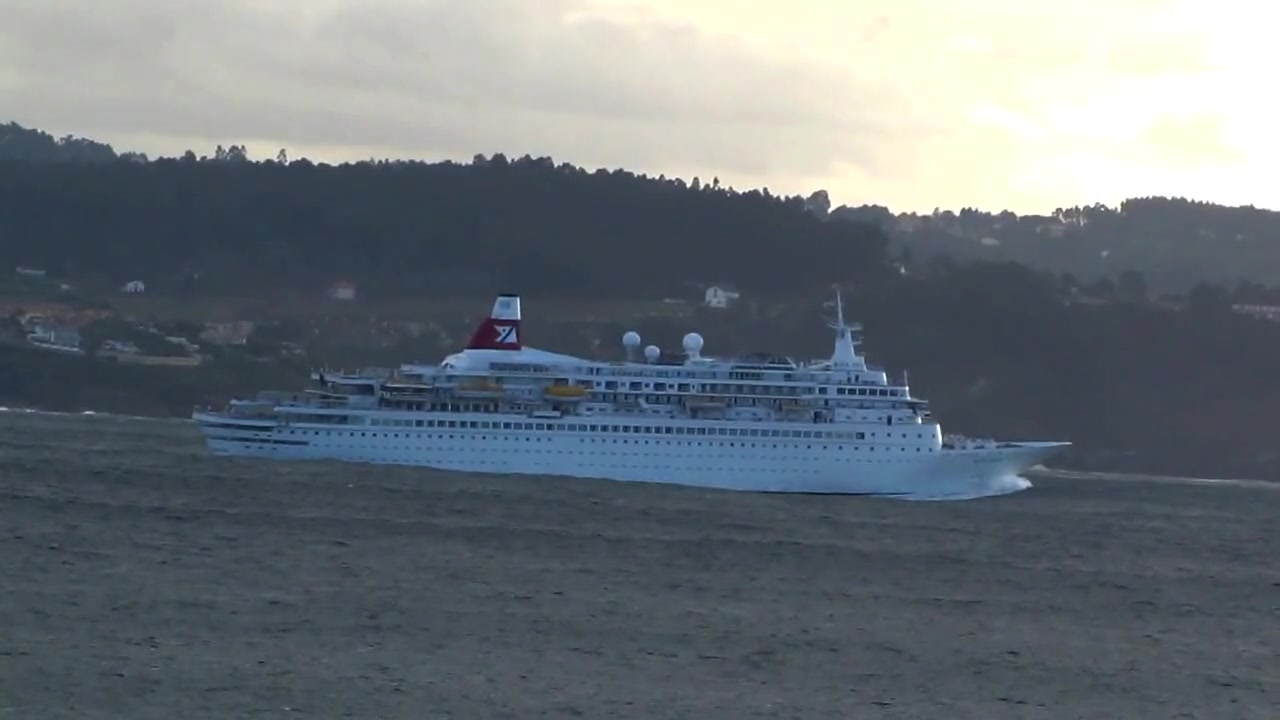boat: (189, 290, 1078, 502)
